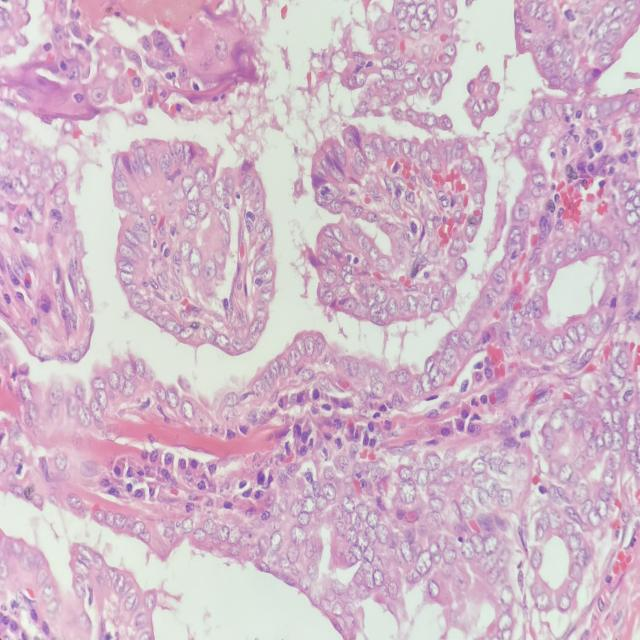TC: (167, 133, 195, 170), (396, 476, 424, 512), (307, 179, 337, 212), (510, 188, 533, 229), (420, 439, 444, 477), (549, 321, 568, 368), (282, 338, 305, 374), (424, 362, 452, 390), (370, 369, 390, 408), (459, 321, 479, 359), (463, 456, 489, 484), (487, 262, 512, 291), (112, 267, 143, 290), (164, 386, 183, 422), (362, 135, 379, 170), (437, 278, 455, 310), (201, 254, 219, 286), (385, 130, 403, 161), (299, 491, 318, 520), (323, 262, 341, 290), (377, 251, 394, 279), (313, 335, 330, 362), (330, 220, 346, 248), (249, 254, 271, 274), (180, 318, 196, 345), (253, 212, 268, 239), (215, 325, 228, 356), (368, 299, 383, 323), (510, 309, 525, 332), (388, 293, 400, 321), (406, 291, 418, 315)
